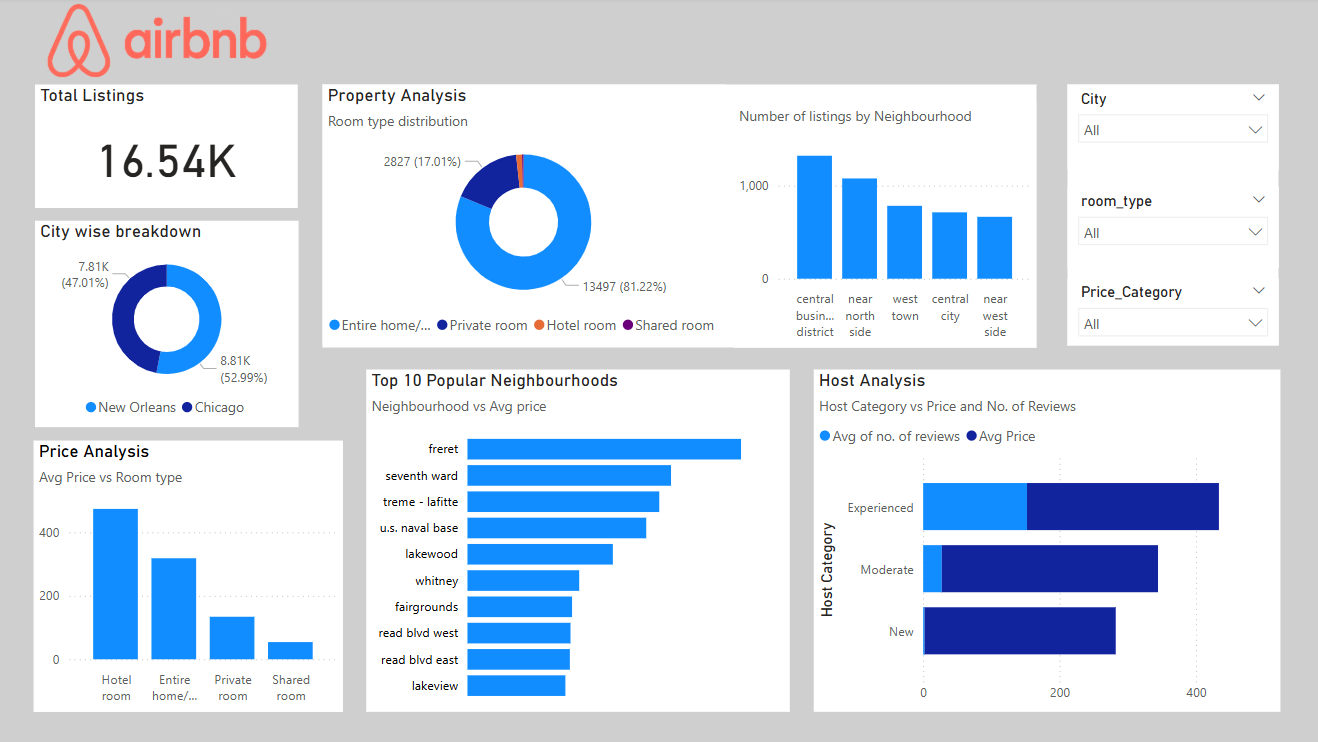

What the dashboard file says about the page in this screenshot:
{"tool":"powerbi","page":{"name":"Page 1","canvas":[1280,720],"ordinal":0},"visuals":[{"type":"card","title":"Total Listings","fields":{"Values":["Count(airbnb_listings.id)"]},"box":[38.6,84.5,253.4,119.4],"z":0},{"type":"slicer","fields":{"Values":["airbnb_listings.City"]},"box":[1035.2,84.5,203.9,82],"z":0,"group":"g1"},{"type":"clusteredColumnChart","title":"Price Analysis","fields":{"Y":["Avg(airbnb_listings.price)"],"Category":["airbnb_listings.room_type"]},"box":[37.4,428.3,298.3,261.8],"z":0,"group":"g2"},{"type":"slicer","fields":{"Values":["airbnb_listings.room_type"]},"box":[1035.6,183.8,203.9,78.4],"z":1000,"group":"g1"},{"type":"barChart","title":"Top 10 Popular Neighbourhoods","fields":{"Y":["Avg(airbnb_listings.price)"],"Category":["airbnb_listings.Neighbourhoods"]},"box":[358.3,359.5,409,330.6],"z":1000},{"type":"donutChart","title":"City wise breakdown","fields":{"Category":["airbnb_listings.City"],"Y":["CountNonNull(airbnb_listings.id)"]},"box":[38.6,216,254.6,199.1],"z":2000},{"type":"slicer","fields":{"Values":["airbnb_listings.Price_Category"]},"box":[1035,271,203.9,65.1],"z":2000,"group":"g1"},{"type":"group","id":"g1","title":"Group 1","box":[1035,84.5,204.4,251.6],"z":3000},{"type":"group","id":"g2","title":"Group 2","box":[37.4,428.3,298,261.8],"z":4000},{"type":"donutChart","title":"Property Analysis","fields":{"Category":["airbnb_listings.room_type"],"Y":["CountNonNull(airbnb_listings.id)"]},"box":[316.1,84.5,388.3,251.1],"z":5000,"group":"g3"},{"type":"barChart","title":"Host Analysis","fields":{"Category":["airbnb_listings.Host_Category"],"Y":["Avg(airbnb_listings.number_of_reviews)","Avg(airbnb_listings.price)"]},"box":[790.2,359.5,450,330.6],"z":5000},{"type":"group","id":"g3","title":"Group 3","box":[316.1,84.5,688.9,253.4],"z":6000},{"type":"image","box":[37.4,0,236.5,84.5],"z":7000},{"type":"clusteredColumnChart","fields":{"Category":["airbnb_listings.Neighbourhoods"],"Y":["CountNonNull(airbnb_listings.id)"]},"box":[712.5,99.6,292.3,238.8],"z":7003,"group":"g3"}]}

Visuals, with their boxes in screenshot pixels (x1, y1, x2, y2), scaled from the page's 1280x720 canvas onto the 1318x742 screenshot:
"Total Listings" card: box=[40, 87, 301, 210]
slicer - airbnb_listings.City: box=[1066, 87, 1276, 172]
"Price Analysis" clusteredColumnChart: box=[39, 441, 346, 711]
slicer - airbnb_listings.room_type: box=[1066, 189, 1276, 270]
"Top 10 Popular Neighbourhoods" barChart: box=[369, 370, 790, 711]
"City wise breakdown" donutChart: box=[40, 223, 302, 428]
slicer - airbnb_listings.Price_Category: box=[1066, 279, 1276, 346]
"Group 1" group: box=[1066, 87, 1276, 346]
"Group 2" group: box=[39, 441, 345, 711]
"Property Analysis" donutChart: box=[325, 87, 725, 346]
"Host Analysis" barChart: box=[814, 370, 1277, 711]
"Group 3" group: box=[325, 87, 1035, 348]
image: box=[39, 0, 282, 87]
clusteredColumnChart - airbnb_listings.Neighbourhoods x CountNonNull(airbnb_listings.id): box=[734, 103, 1035, 349]
